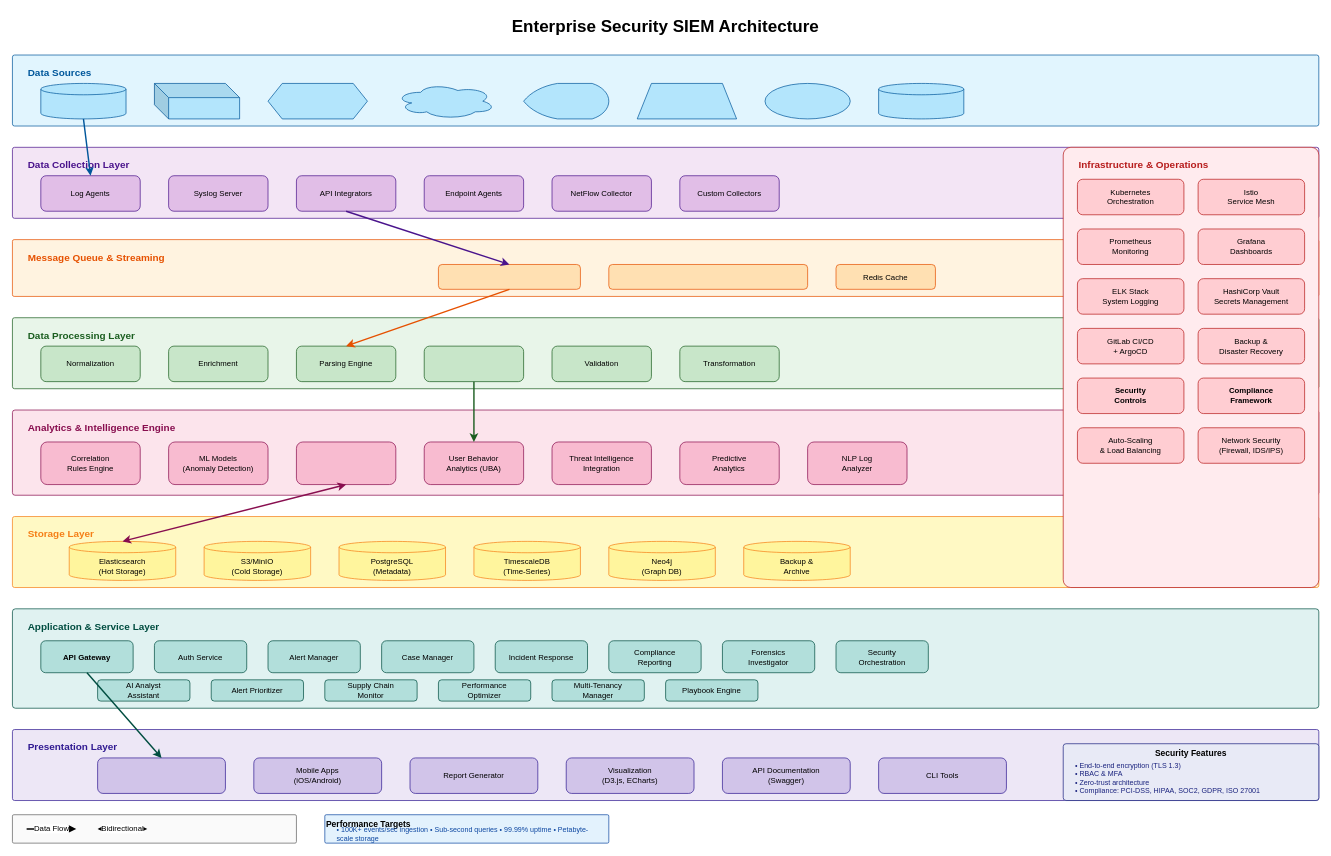
The diagram is 1331 pixels wide and 856 high, and some of its shapes have lost their labels. The centre of each missing label's shape, as x and y in pixels:
"Apache Kafka" belongs at pixel 509 276.
"Applications" belongs at pixel 197 101.
"Auth Systems" belongs at pixel 921 101.
"Cloud Services" belongs at pixel 445 101.
"Endpoints" belongs at pixel 566 101.
"Filtering" belongs at pixel 474 363.
"IoT Devices" belongs at pixel 807 101.
"Legend" belongs at pixel 154 828.
"Network Devices" belongs at pixel 317 101.
"Security Tools" belongs at pixel 687 101.
"Servers & VMs" belongs at pixel 83 101.
"Threat Detection & Classification" belongs at pixel 346 463.
"Topics: logs | alerts | events | metrics" belongs at pixel 708 276.
"Web Dashboard (React + TypeScript)" belongs at pixel 161 775.
